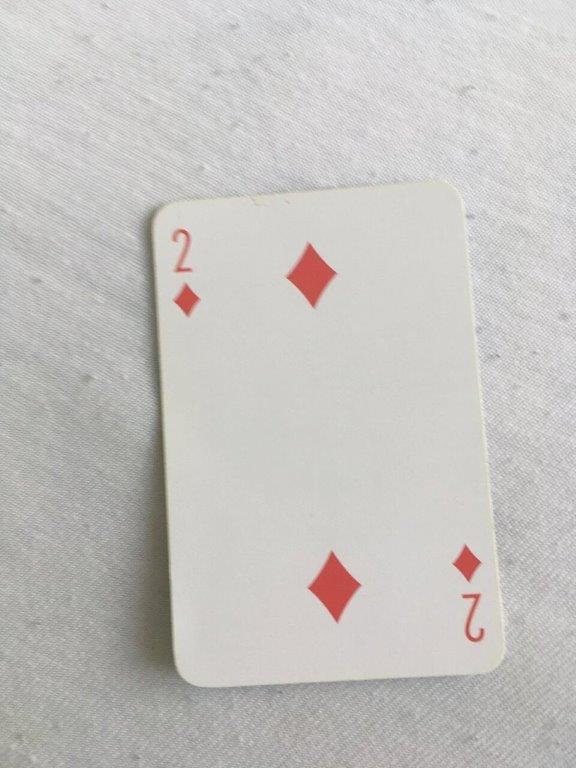2D: (147, 177, 511, 692)
